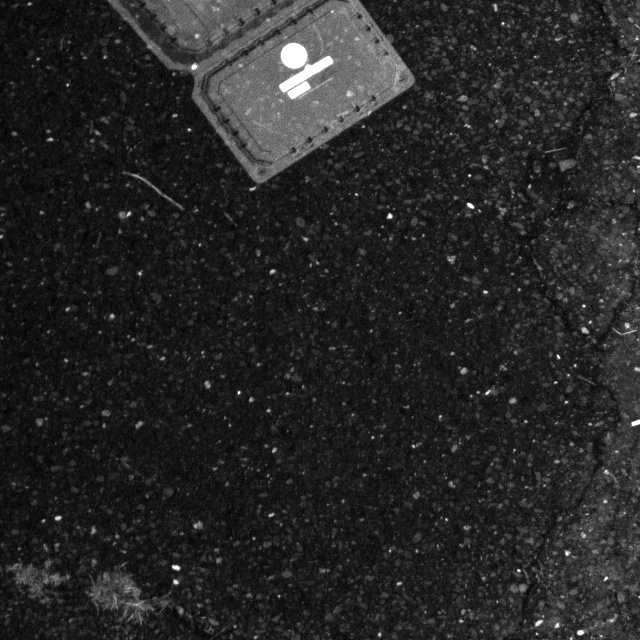container: (94, 0, 421, 216)
